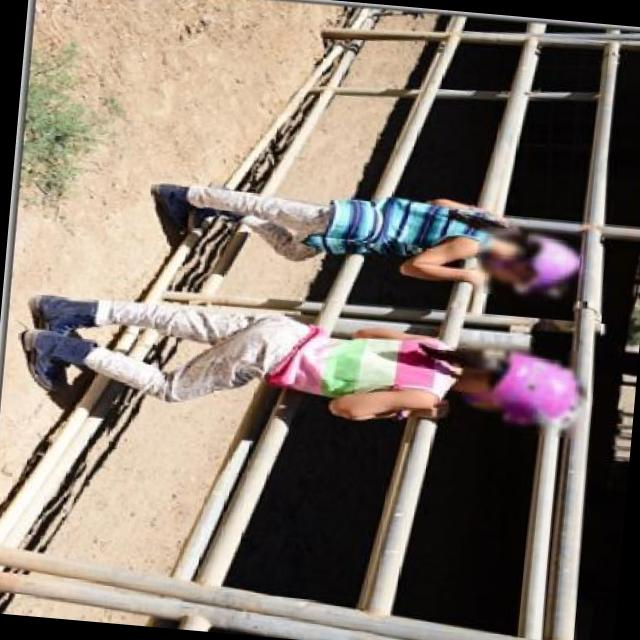With Helmet: (456, 339, 590, 439), (469, 223, 582, 302)
